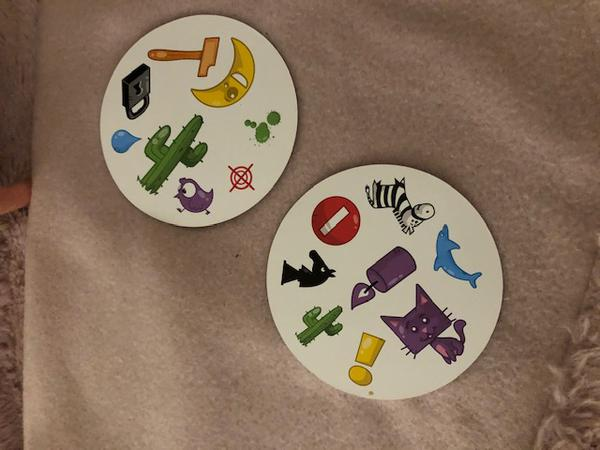bougie: (350, 244, 419, 310)
cactus: (137, 117, 210, 196), (289, 298, 350, 351)
cadenas: (115, 63, 153, 125)
chat: (382, 281, 467, 368)
cheval: (280, 248, 339, 295)
cible: (223, 161, 257, 197)
dauphin: (427, 221, 482, 290)
goutte: (104, 123, 140, 158)
lune: (189, 37, 255, 109)
marteau: (147, 37, 221, 83)
oiseau: (173, 177, 218, 218)
point_exclamation: (345, 326, 386, 389)
sens_interdit: (309, 195, 362, 247)
tache: (242, 107, 282, 146)
zebre: (365, 178, 437, 236)
